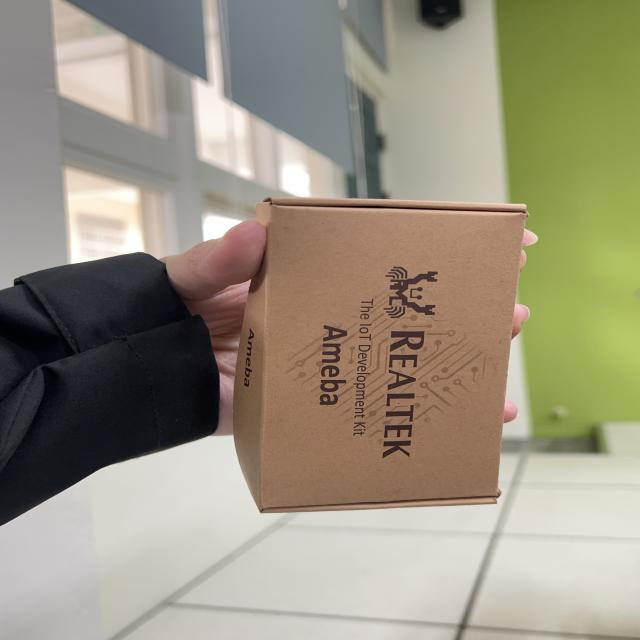box: (223, 171, 525, 531)
